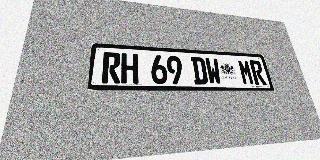6: (150, 55, 168, 84)
9: (166, 55, 184, 84)
D: (191, 57, 208, 84)
H: (121, 53, 138, 84)
M: (237, 59, 255, 85)
R: (102, 52, 121, 83), (249, 60, 267, 85)
W: (204, 58, 222, 85)
